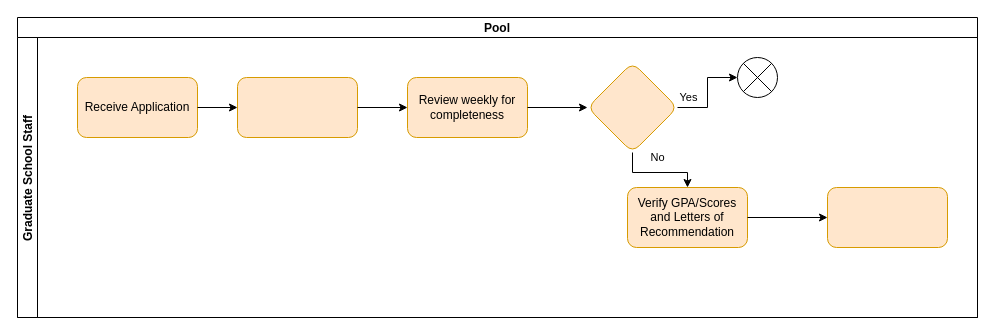
The diagram is 995 pixels wide and 335 high, and some of its shapes have lost their labels. The shapes that lost their labels are listed below. From the top down, each one's box as (x1, y1, x2, y2) in pixels, then its label:
(236, 76, 358, 138): Confirm in "Open" status and assign to their Name
(586, 62, 678, 152): Canceled/ Decided?
(826, 186, 948, 248): Sets status to "Ready to Be Evaluated
